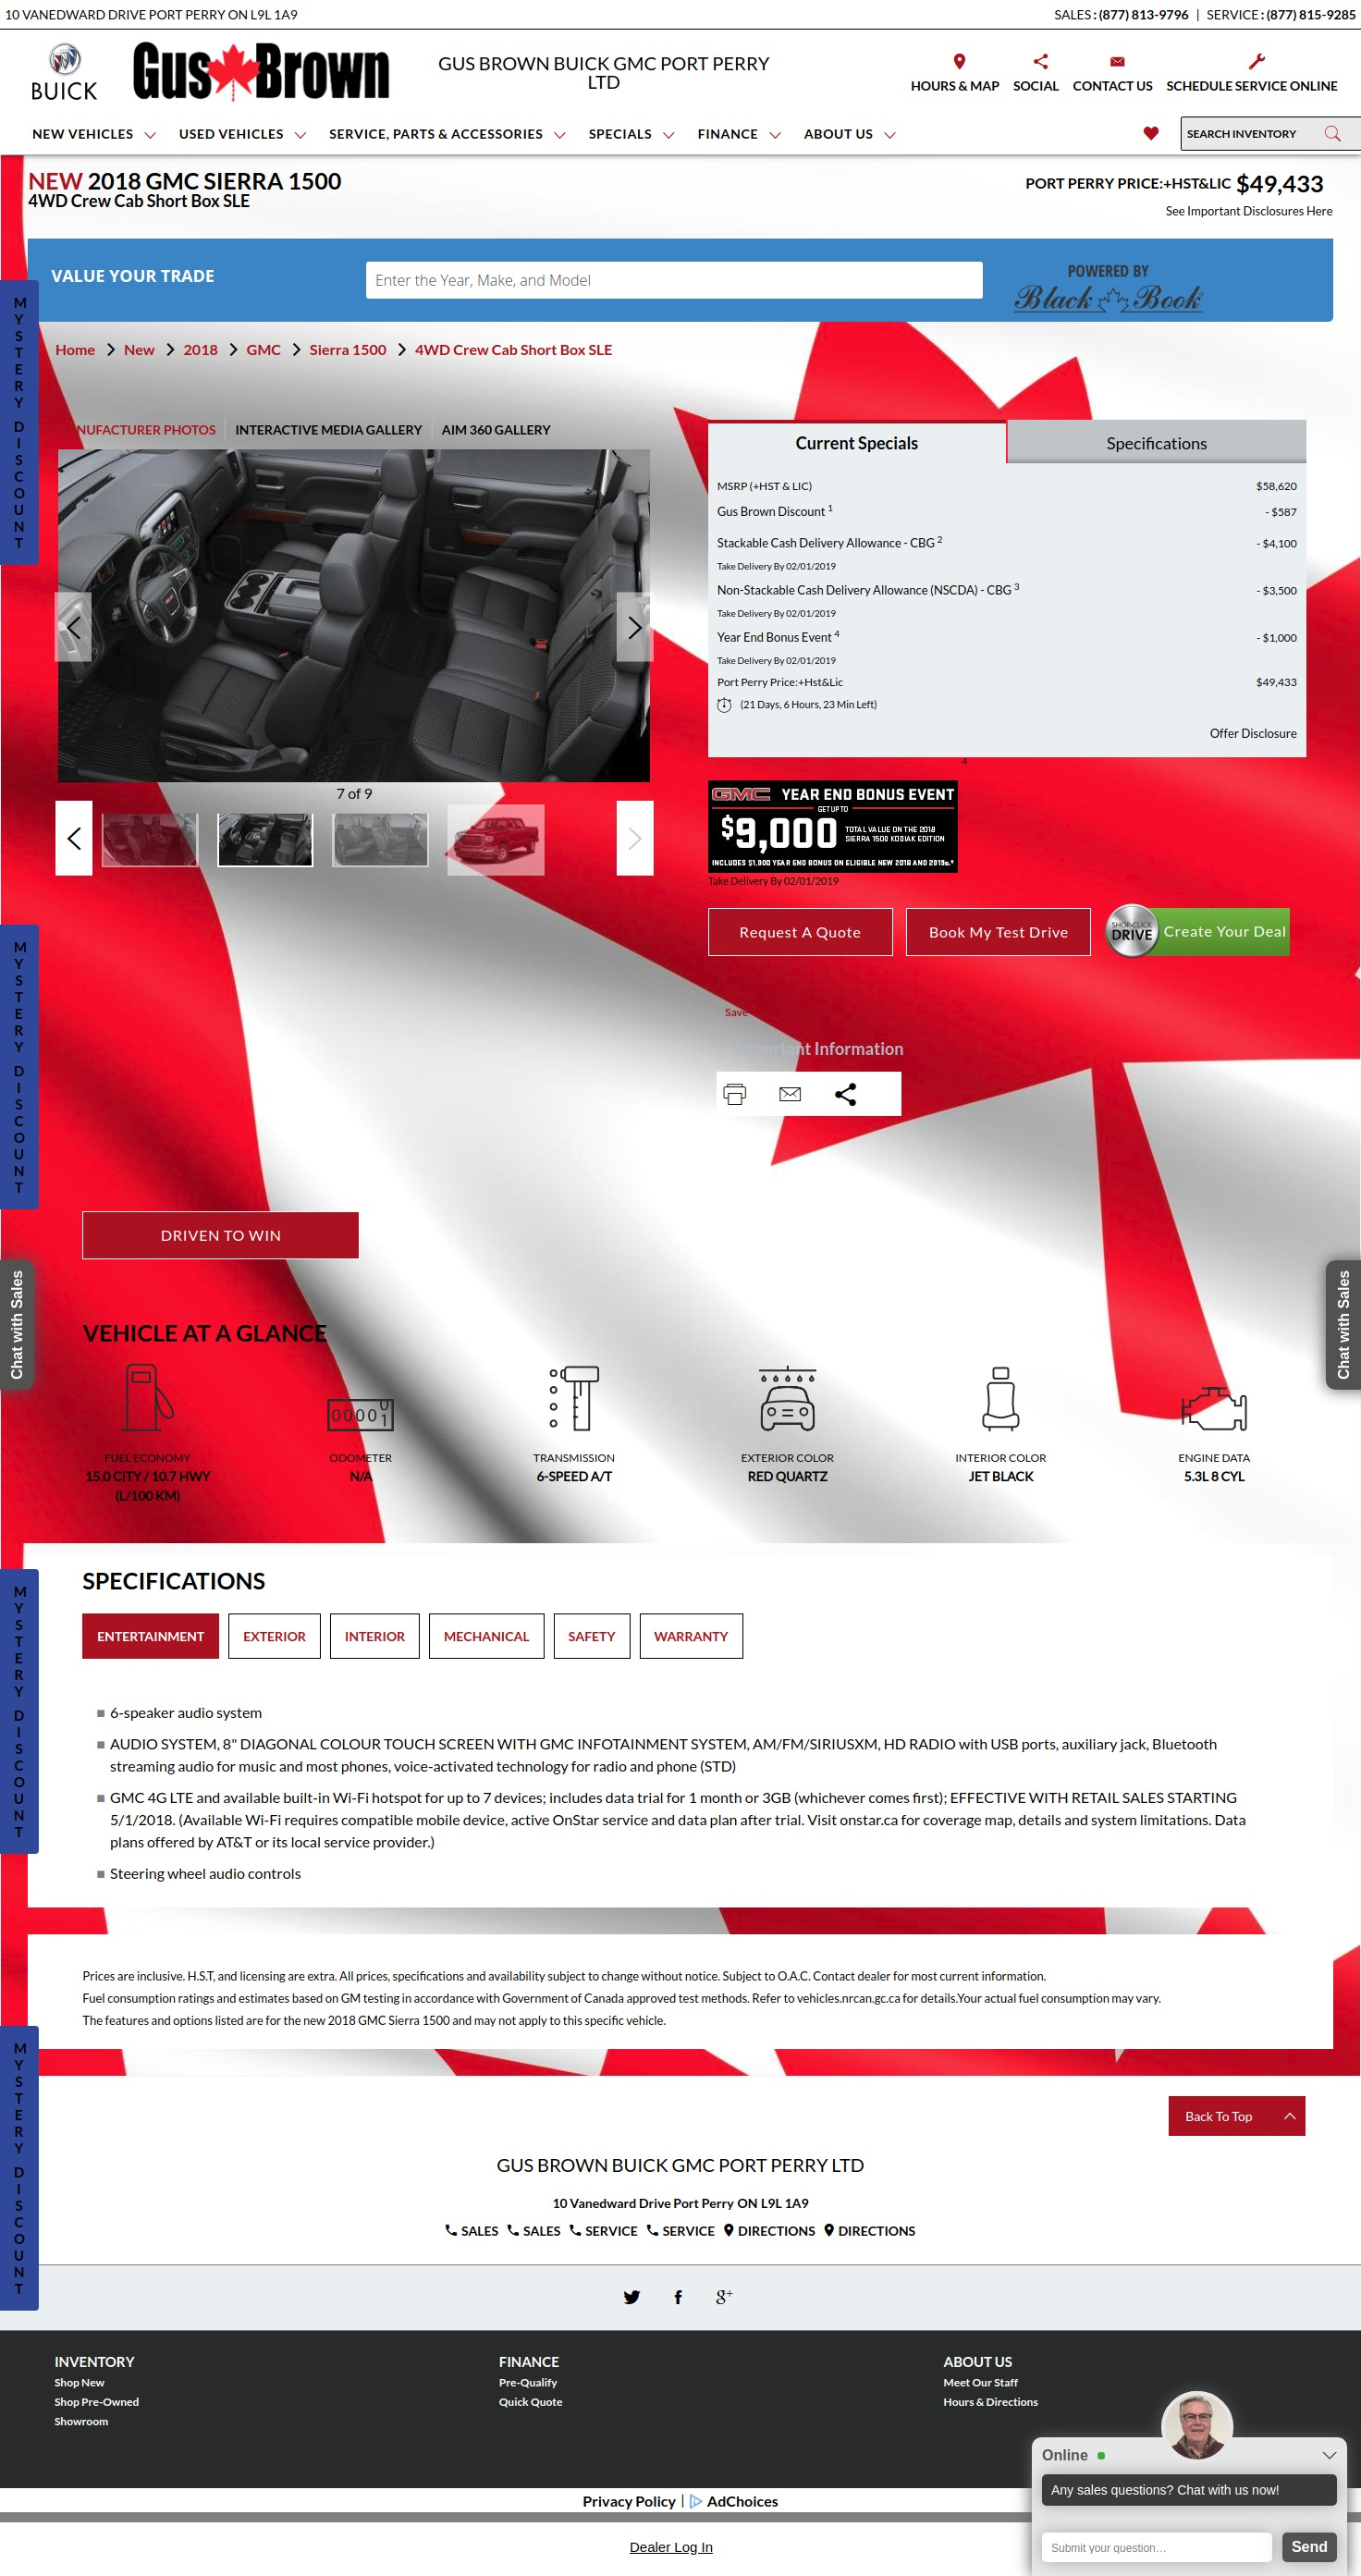car: (629, 828, 642, 850)
